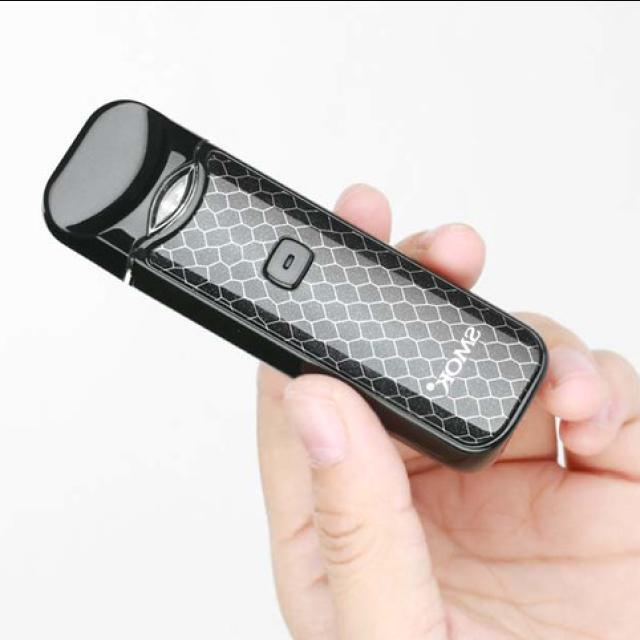Hazard: (42, 99, 545, 473)
